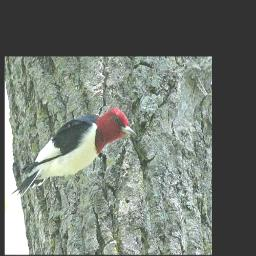Woodpecker: (7, 100, 142, 208)
